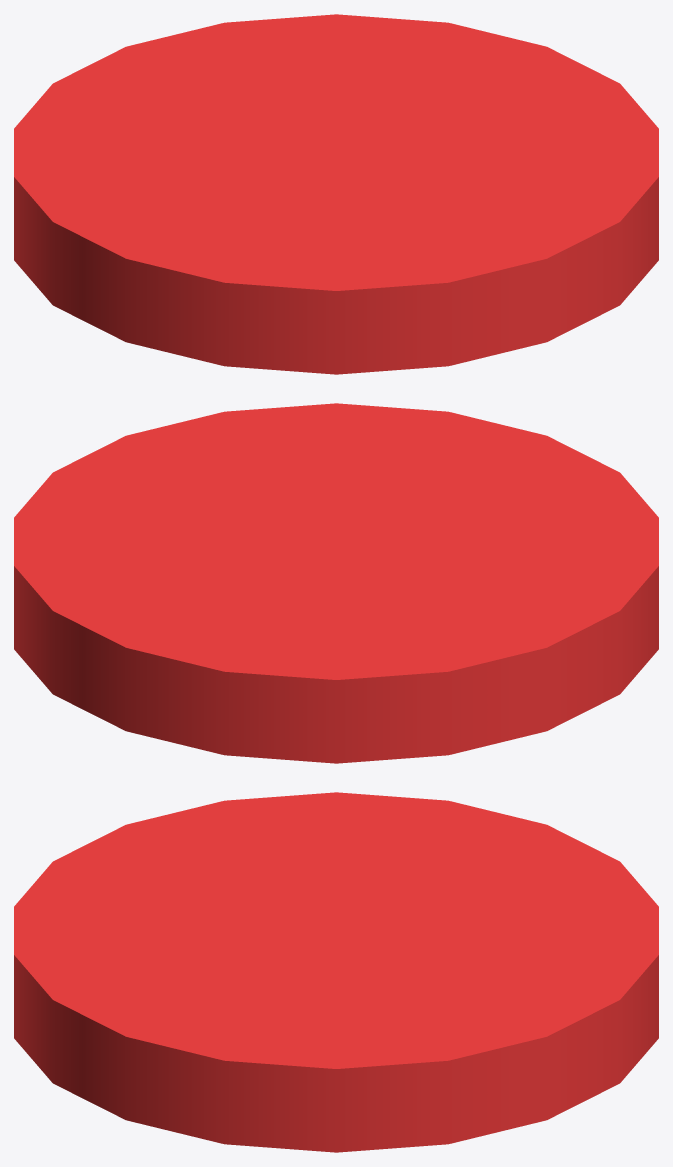
The model's file is button.fbx.
3 renders of one model, top to bottom at view 1: azimuth 30°, elevation 25°; view 2: azimuth 150°, elevation 25°; view 3: azimuth 270°, elevation 25°, orthographic.
Parts seen in each view (by area): view 1: button; view 2: button; view 3: button.
Boxes of the visible parts, left/top/right/bottom form: button: left=14, top=14, right=658, bottom=374; button: left=14, top=403, right=658, bottom=763; button: left=14, top=792, right=658, bottom=1152.
Size of the model in its own units: 52.52 by 51.72 by 7.39.
Materials: 1 (1 with a texture image).
